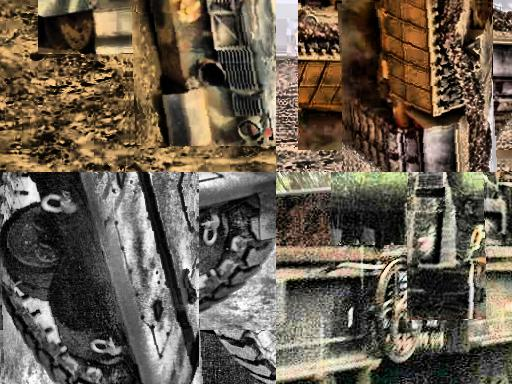tanks: (1, 173, 199, 384), (347, 1, 493, 173), (152, 1, 277, 147), (447, 173, 487, 319), (223, 311, 277, 378)
